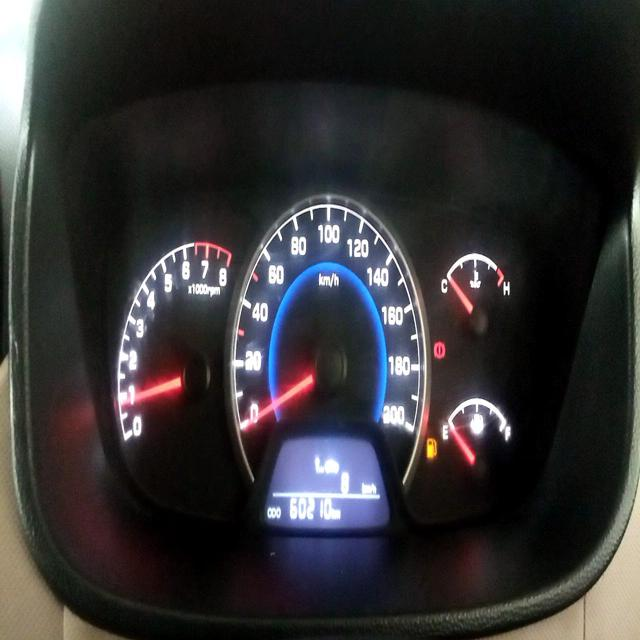odometer: (287, 496, 332, 524)
